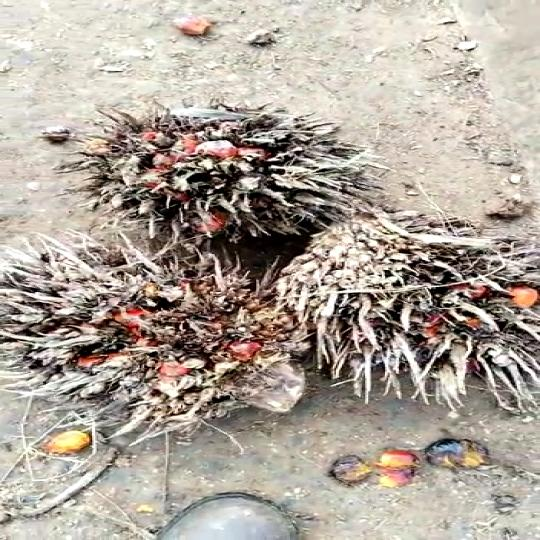terlalu masak: (0, 255, 338, 429), (300, 214, 540, 402), (60, 118, 375, 250)
